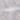plane: (1, 1, 20, 18)
